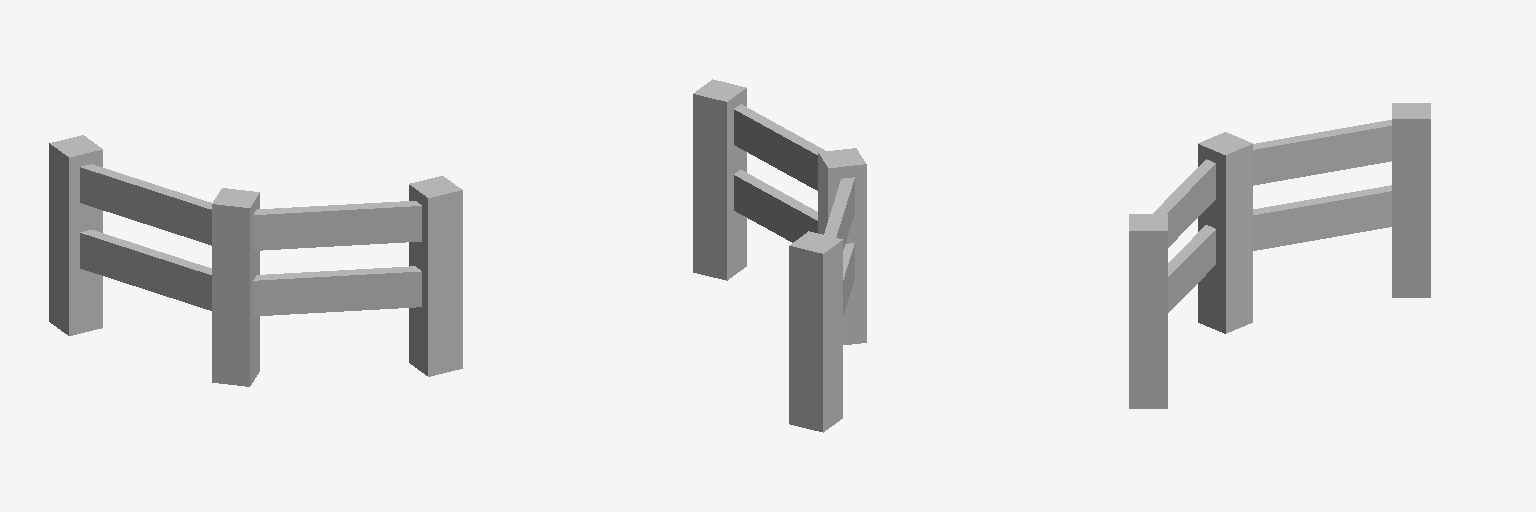
The model's file is Prop_Fence_Curve_1x1.obj.
3 renders of one model, left to right at view 1: azimuth 30°, elevation 25°; view 2: azimuth 150°, elevation 25°; view 3: azimuth 270°, elevation 25°, orthographic.
Parts seen in each view (by area): view 1: object7, object3, object1, object5, object2, object6, object4; view 2: object1, object7, object3, object5, object2, object4, object6; view 3: object3, object1, object7, object4, object6, object5, object2.
Boxes of the visible parts, x1=… form: object7: x1=409, y1=176, x2=462, y2=376; object3: x1=212, y1=188, x2=259, y2=386; object1: x1=49, y1=135, x2=102, y2=335; object5: x1=253, y1=201, x2=421, y2=250; object2: x1=253, y1=266, x2=421, y2=316; object6: x1=80, y1=230, x2=211, y2=310; object4: x1=80, y1=164, x2=211, y2=245; object1: x1=789, y1=231, x2=842, y2=432; object7: x1=693, y1=79, x2=746, y2=280; object3: x1=818, y1=148, x2=866, y2=344; object5: x1=734, y1=104, x2=824, y2=190; object2: x1=734, y1=170, x2=817, y2=242; object4: x1=824, y1=177, x2=854, y2=249; object6: x1=843, y1=243, x2=854, y2=315; object3: x1=1198, y1=132, x2=1252, y2=333; object1: x1=1392, y1=103, x2=1430, y2=297; object7: x1=1129, y1=214, x2=1167, y2=408; object4: x1=1253, y1=120, x2=1391, y2=185; object6: x1=1253, y1=185, x2=1391, y2=250; object5: x1=1153, y1=159, x2=1215, y2=247; object2: x1=1168, y1=225, x2=1215, y2=312.
Size of the model in its own units: 1.15 by 0.7498 by 1.15.